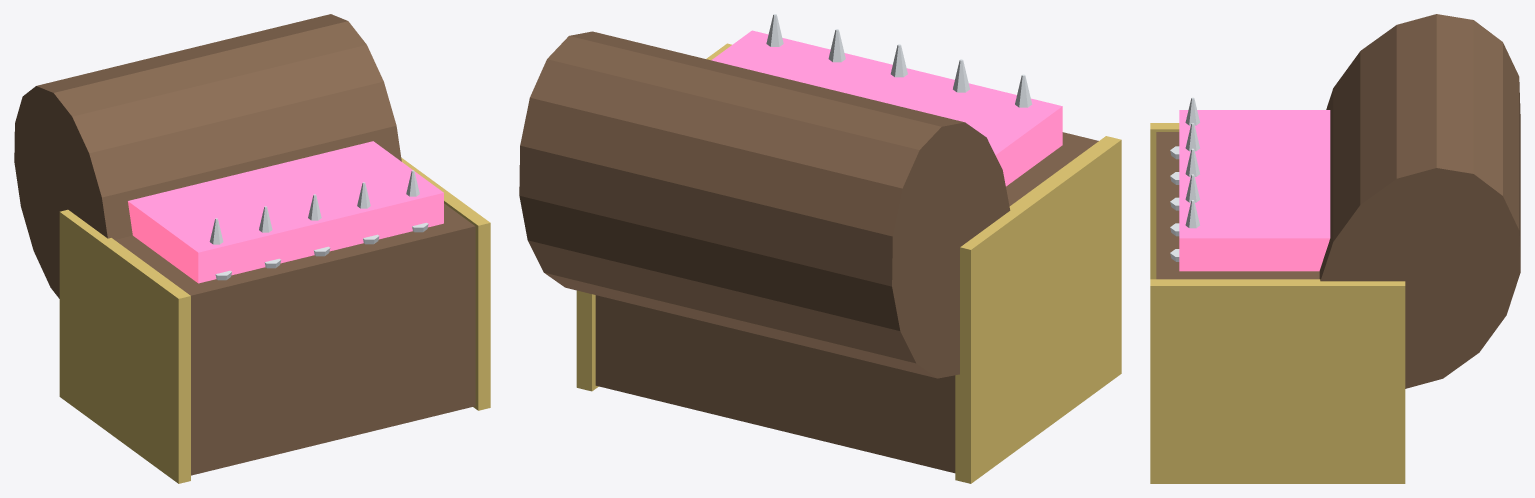
Rendered from mimic_chest.glb.
3 renders of one model, left to right at view 1: azimuth 30°, elevation 25°; view 2: azimuth 150°, elevation 25°; view 3: azimuth 270°, elevation 25°, orthographic. The views are drawn at different scales.
Parts seen in each view (by area): view 1: Cube, Cylinder, Cube.001, MimicMaw, Cube.002; view 2: Cylinder, Cube.001, Cube, MimicMaw, Cube.002; view 3: Cylinder, Cube.002, MimicMaw, Cube, Cube.001.
Boxes of the visible parts, box(x1,y1,x2,y2) form: Cube: box(115, 203, 475, 475); Cylinder: box(14, 14, 401, 298); Cube.001: box(59, 209, 190, 483); MimicMaw: box(128, 141, 443, 283); Cube.002: box(401, 157, 490, 410); Cylinder: box(519, 31, 1010, 378); Cube.001: box(955, 136, 1121, 483); Cube: box(595, 132, 1098, 473); MimicMaw: box(711, 30, 1062, 186); Cube.002: box(576, 43, 731, 391); Cylinder: box(1319, 14, 1520, 388); Cube.002: box(1150, 279, 1405, 483); MimicMaw: box(1179, 110, 1330, 271); Cube: box(1156, 132, 1319, 279); Cube.001: box(1150, 123, 1179, 279).
Size of the model in its own units: 1.27 by 1.13 by 1.22.
